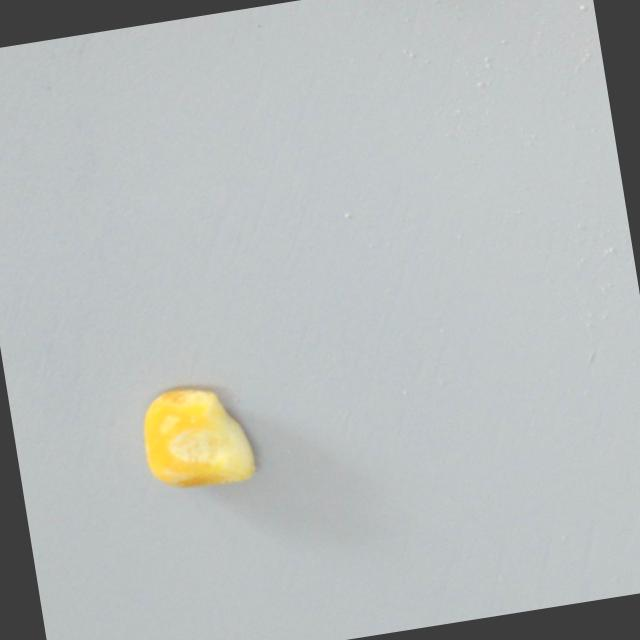pelicula: (130, 373, 265, 499)
